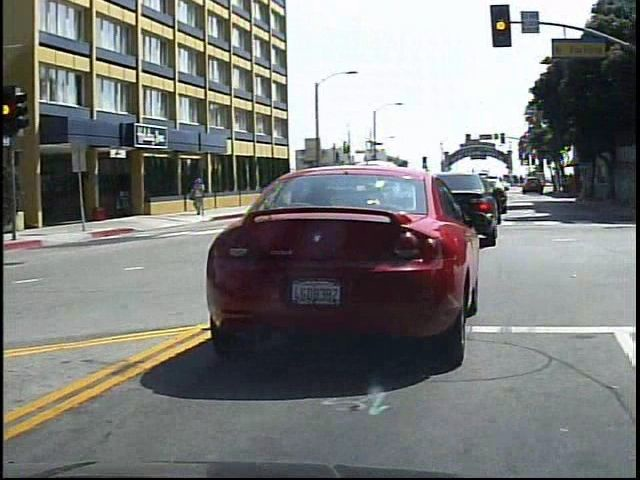person: (192, 174, 210, 218)
